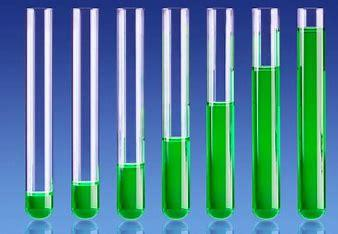Test tube: (200, 2, 239, 224), (67, 3, 104, 221), (292, 1, 326, 225), (159, 2, 193, 224), (248, 6, 282, 226), (112, 6, 145, 220), (22, 10, 55, 219)
